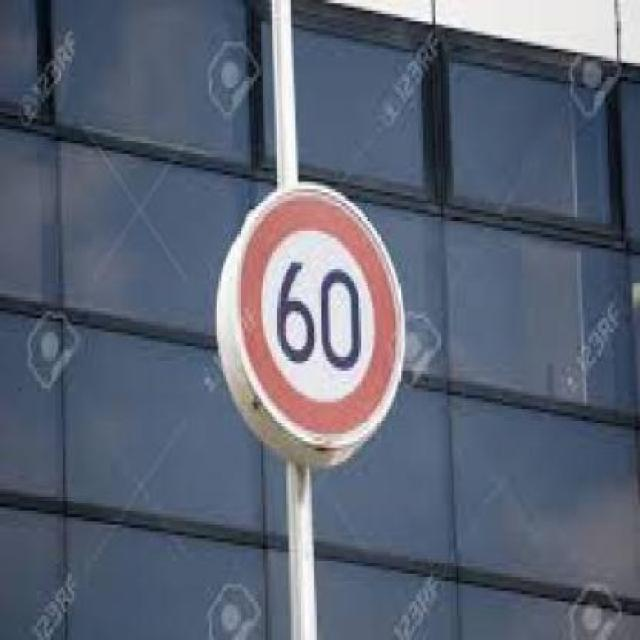forb_speed_over_60: (241, 191, 402, 440)
